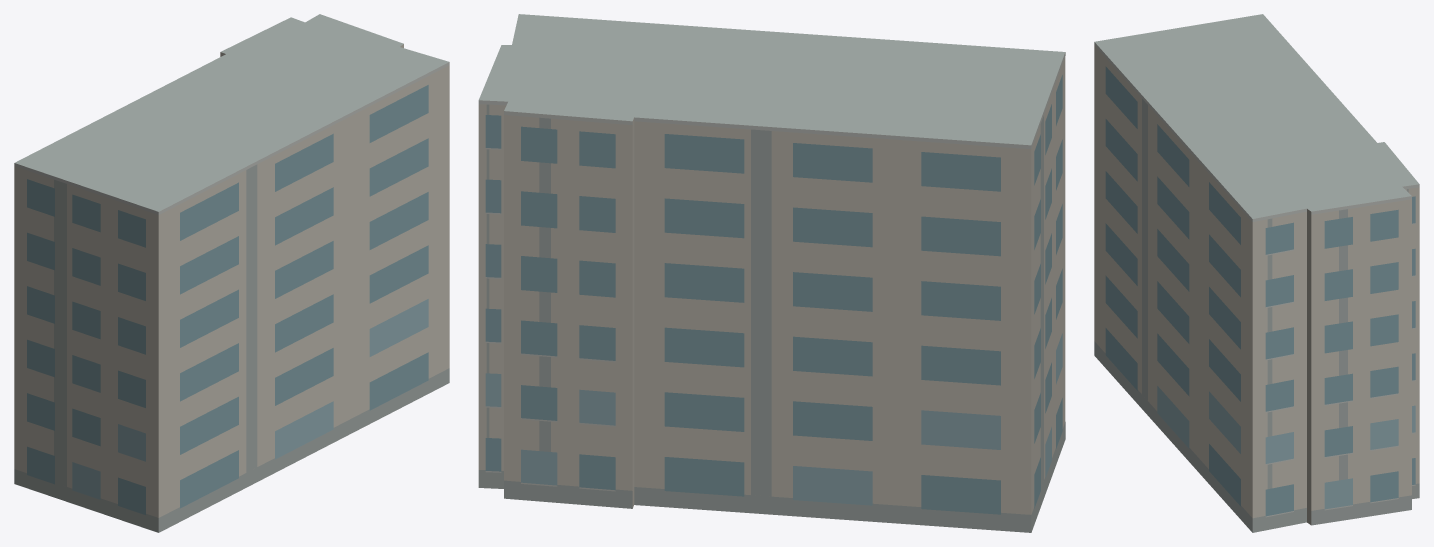
File: survey-upis-32862770.glb
3 views of the same model, side by side, from view 1: azimuth 30°, elevation 25°; view 2: azimuth 150°, elevation 25°; view 3: azimuth 270°, elevation 25° (orthographic). The views are drawn at different scales.
Visible parts, largest first — view 1: survey-upis-32862770.tmp; view 2: survey-upis-32862770.tmp; view 3: survey-upis-32862770.tmp.
Part boxes in pixels (box(x1,y1,x2,y2)): survey-upis-32862770.tmp: box(14, 14, 449, 532); survey-upis-32862770.tmp: box(478, 14, 1065, 532); survey-upis-32862770.tmp: box(1094, 14, 1419, 532).
Bounding box in the file's own units: 34.28 × 24.45 × 22.98.
